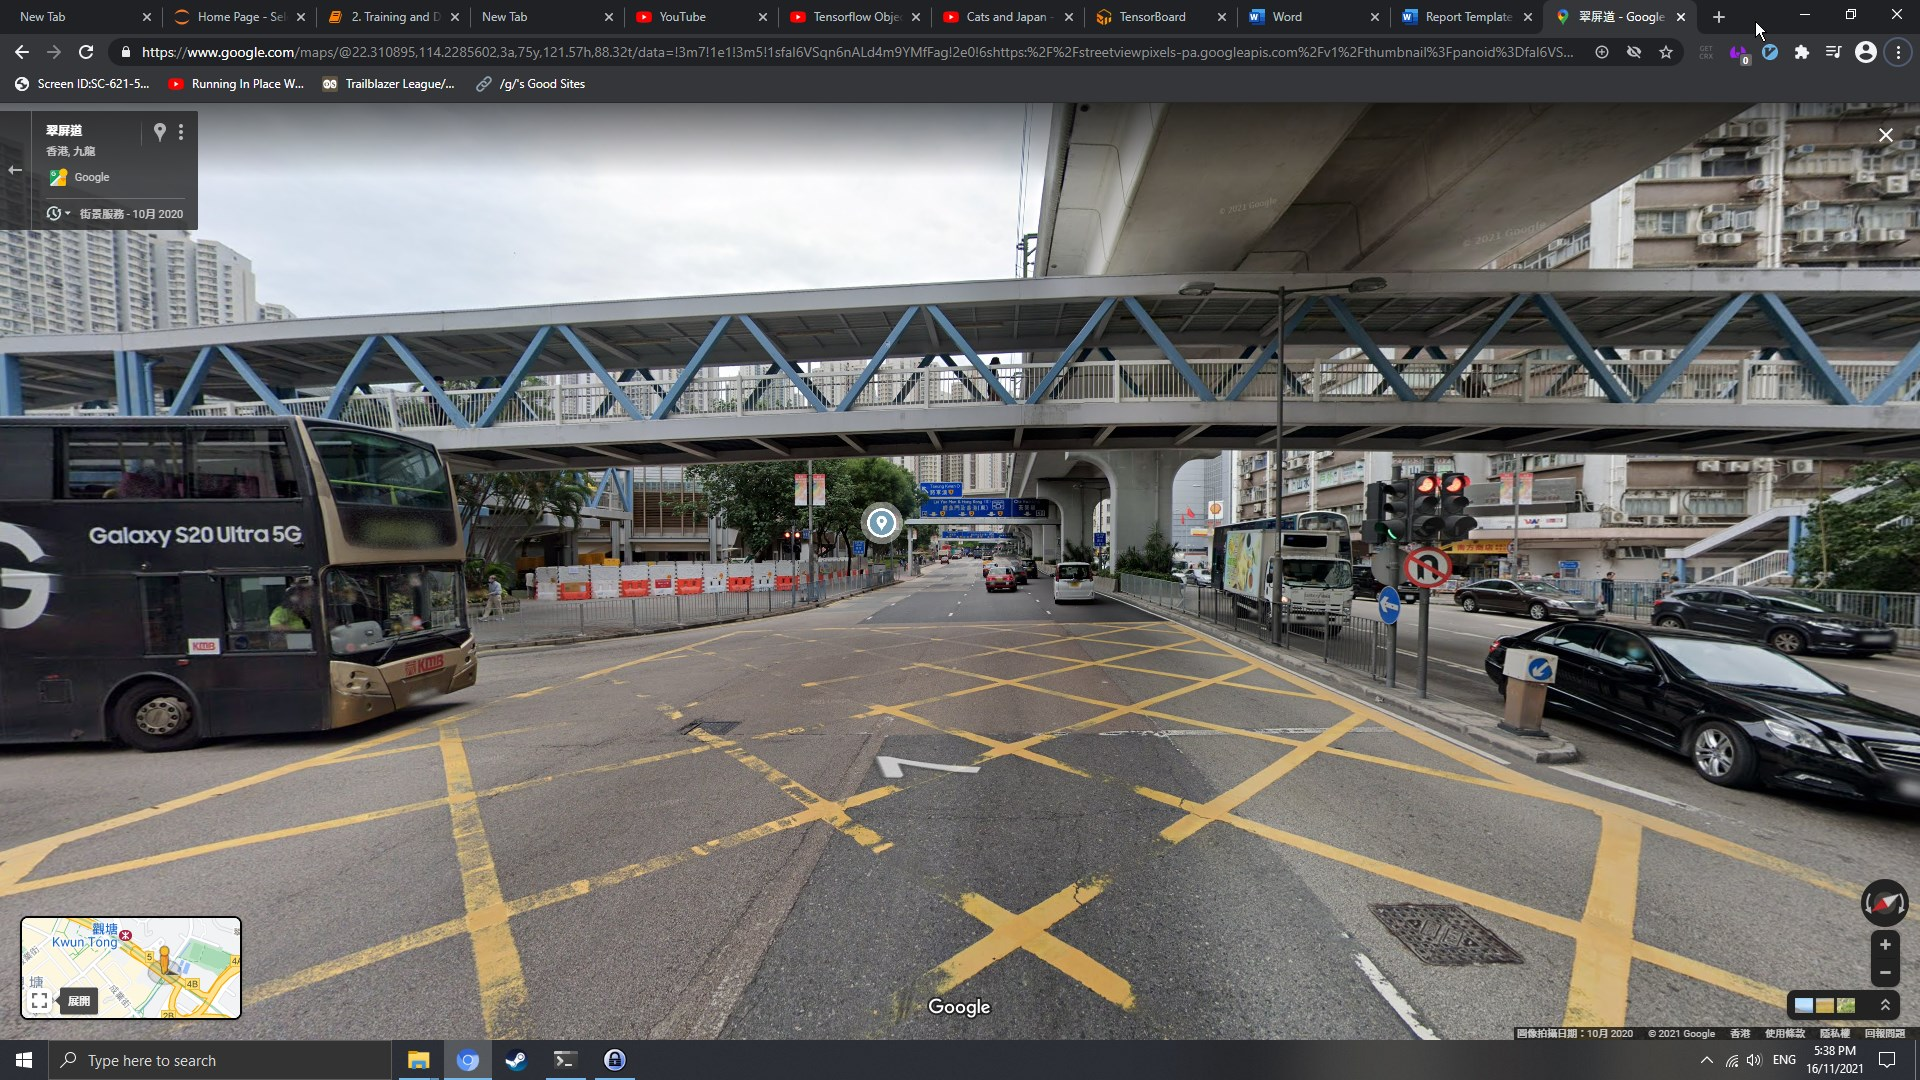NoUTurn: (1403, 546, 1453, 588)
